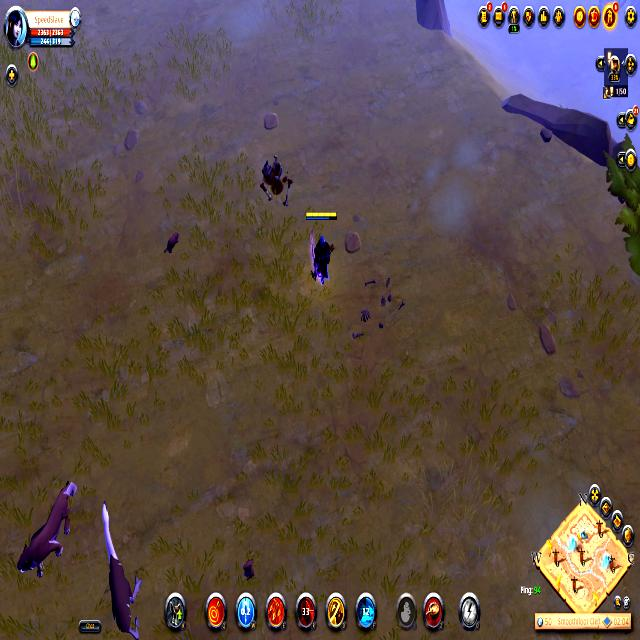ore: (11, 467, 81, 586), (94, 498, 150, 640)
red: (301, 204, 340, 294)
